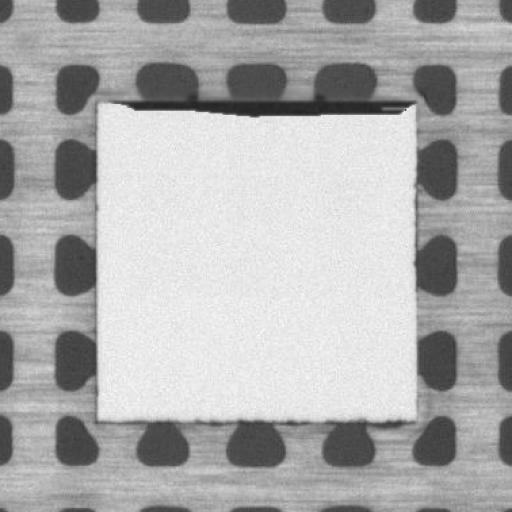DIE_BROKEN: (119, 92, 416, 115)
